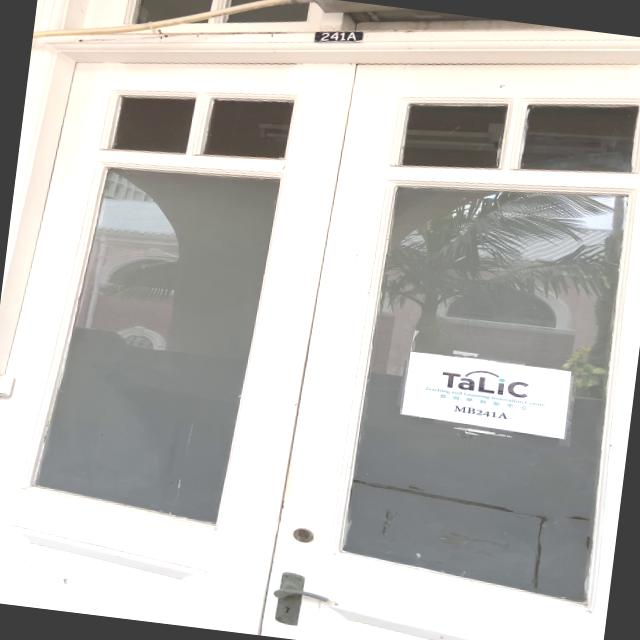room241a: (310, 22, 366, 51)
